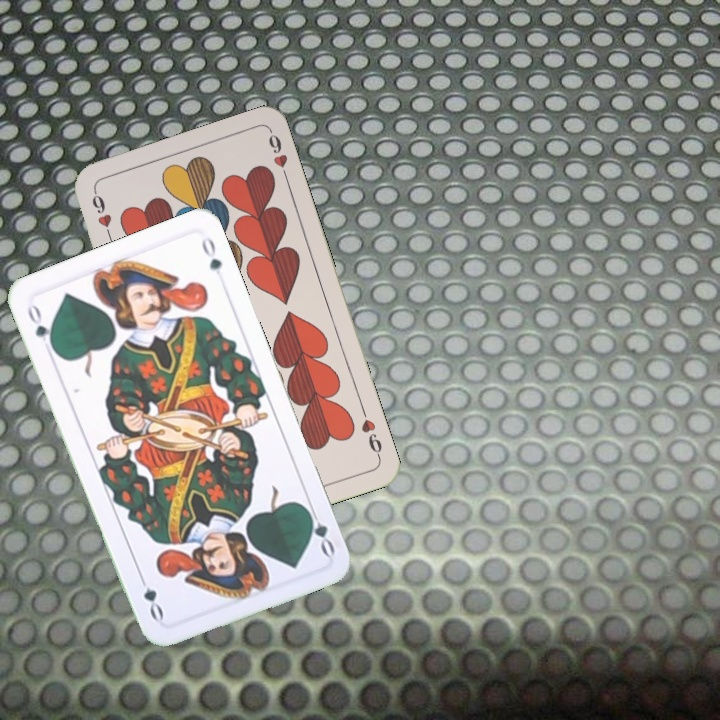GO: (301, 501, 338, 559), (23, 300, 58, 354)
H9: (88, 187, 116, 245), (357, 404, 385, 461)
